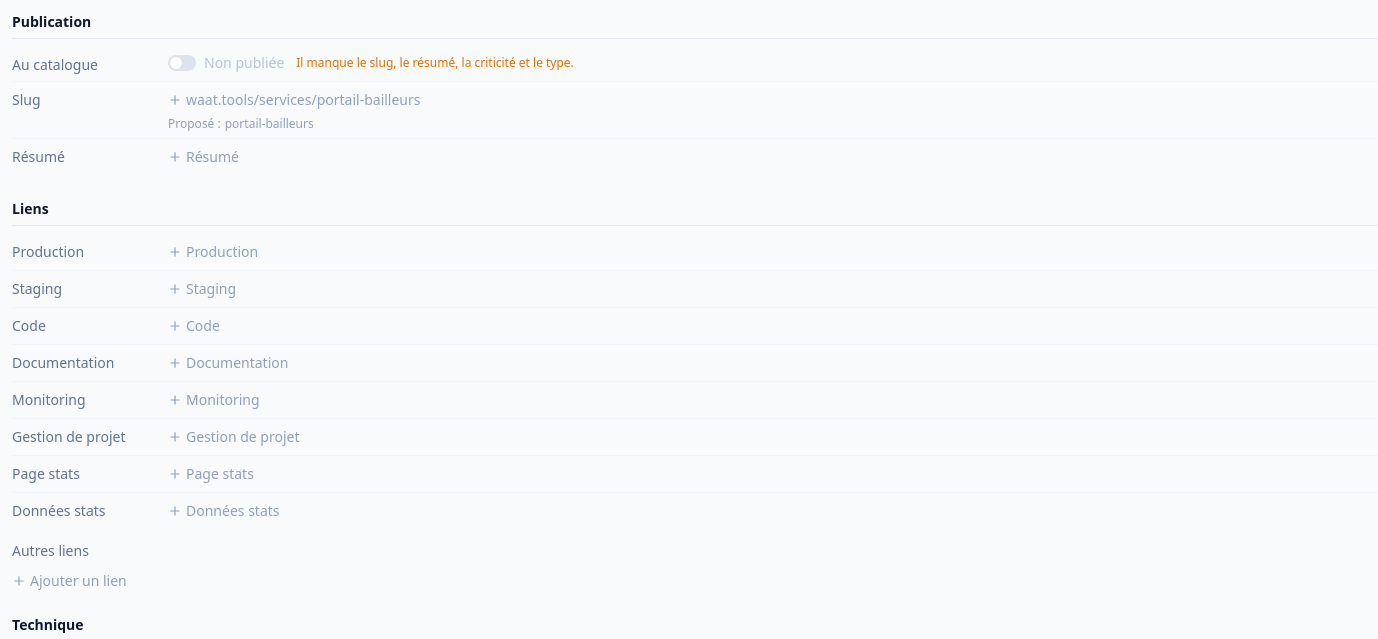
the slug › refuses a pasted URL where the catalogue expects a slug
Click the button with aria-label "Slug".
click(294, 100)  # box 164,88 -> 424,112
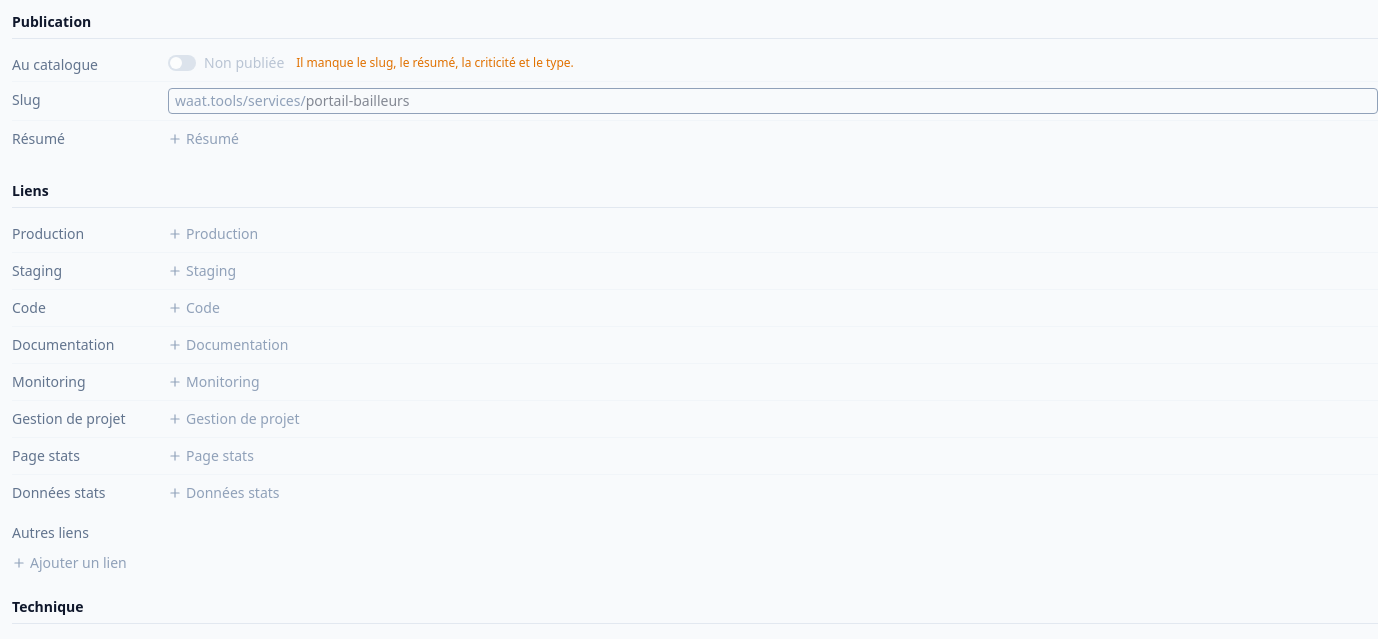
Type "https://lorem-ipsum.waat.tools" into the field named "Slug".
click(838, 101); type("https://lorem-ipsum.waat.tools")  # box 306,89 -> 1371,113
Then press Enter
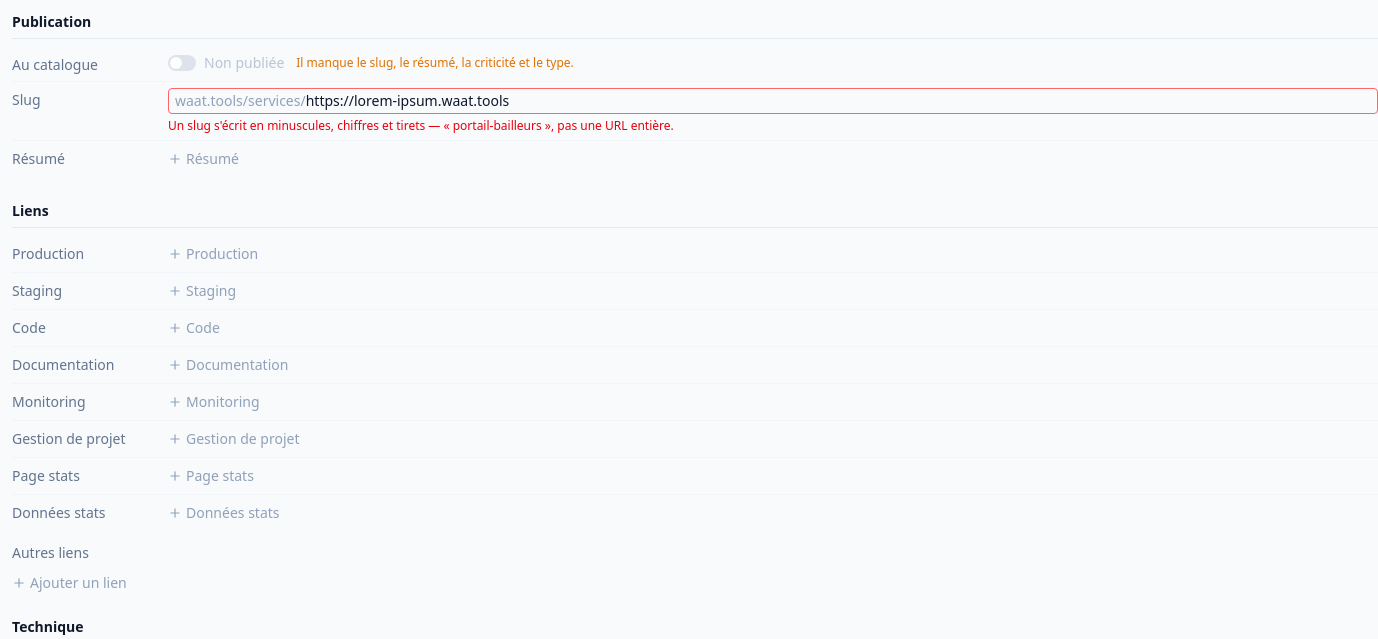
Expected: the text "pas une URL entière" is shown, 168,117 -> 674,134
